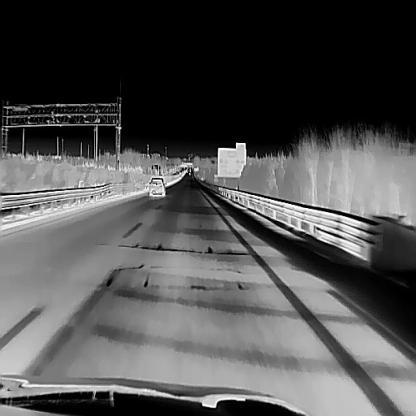car: (149, 176, 166, 197)
